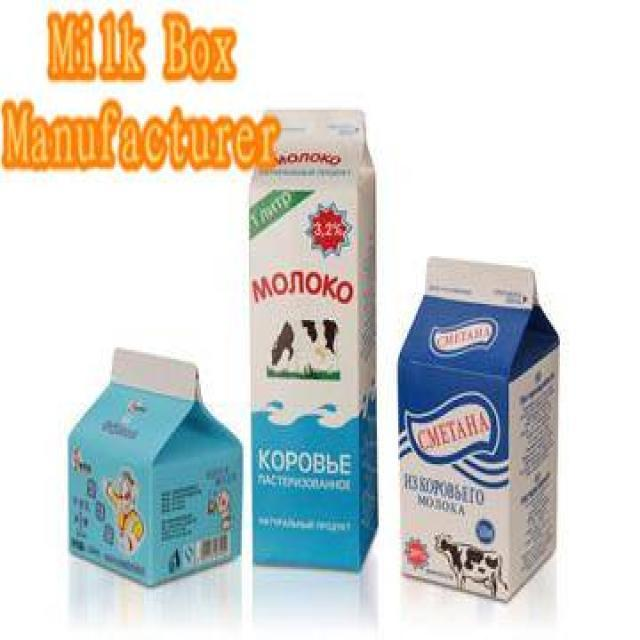Carton: (243, 105, 384, 582), (394, 231, 566, 616), (58, 316, 248, 592)
